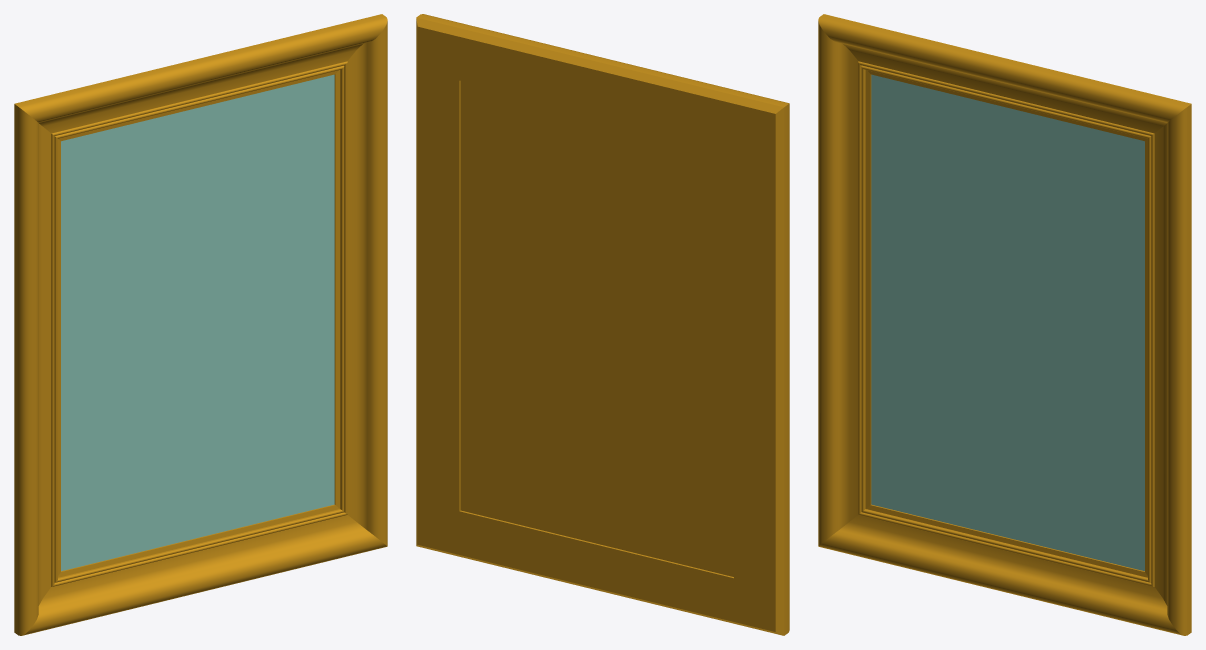
The model's file is Painting_V_2.fbx.
3 views of the same model, side by side, from view 1: azimuth 30°, elevation 25°; view 2: azimuth 150°, elevation 25°; view 3: azimuth 330°, elevation 25° (orthographic).
Visible parts, largest first — view 1: SM_Painting_V_2; view 2: SM_Painting_V_2; view 3: SM_Painting_V_2.
Part boxes in pixels (x1,y1,x2,y2): SM_Painting_V_2: [14, 14, 387, 635]; SM_Painting_V_2: [416, 14, 789, 635]; SM_Painting_V_2: [818, 14, 1191, 635].
Bounding box in the file's own units: 185 × 254 × 10.54.
